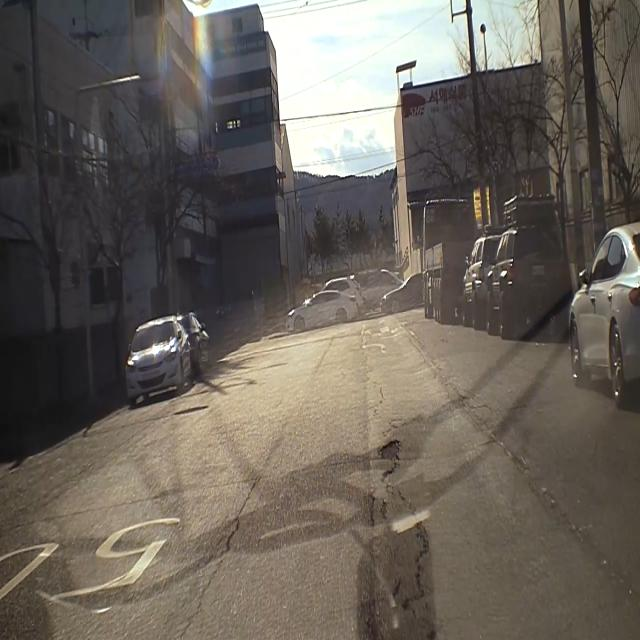Pothole: (374, 430, 404, 473), (172, 402, 212, 421)
